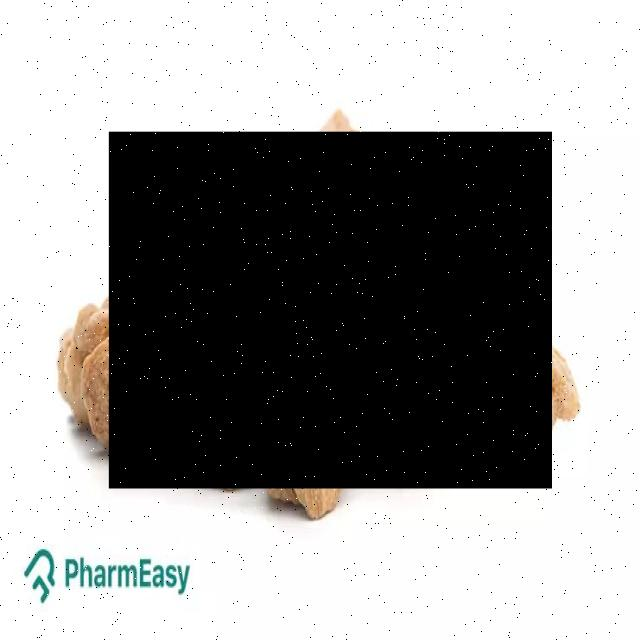Nutrela: (109, 133, 553, 489)
